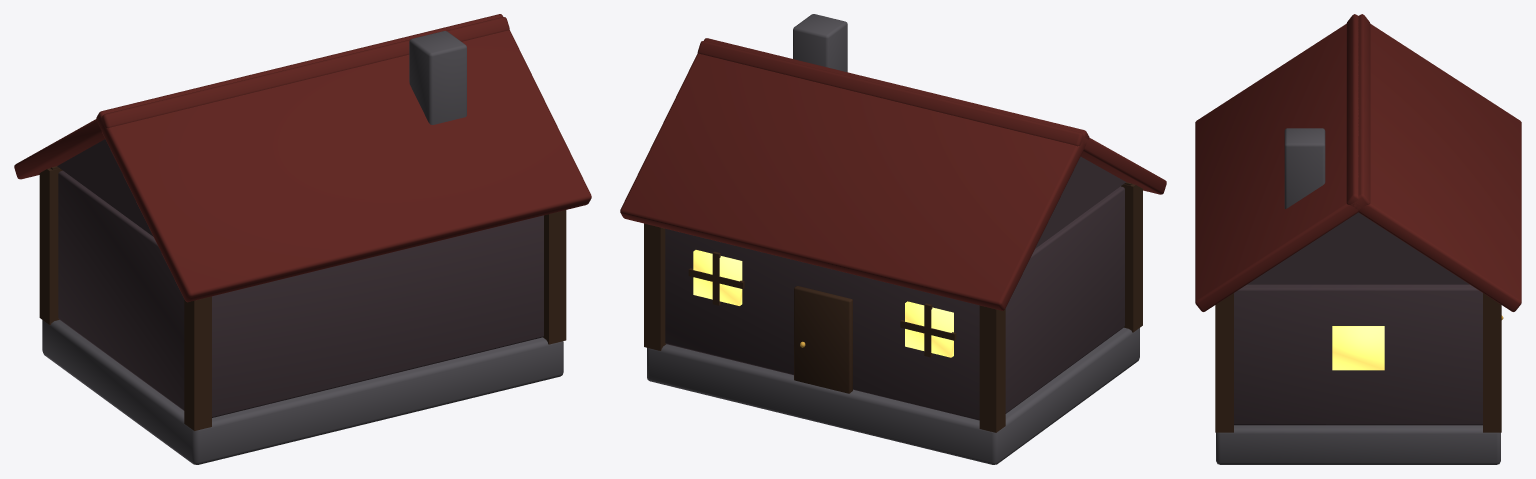
Rendered from house_dark.glb.
The picture shows the model from 3 angles, left to right: view 1: azimuth 30°, elevation 25°; view 2: azimuth 150°, elevation 25°; view 3: azimuth 270°, elevation 25°; orthographic projection. The views are drawn at different scales.
Parts seen in each view (by area): view 1: house_dark; view 2: house_dark; view 3: house_dark.
Part boxes in pixels (x1,y1,x2,y2): house_dark: (14,14,591,464); house_dark: (620,14,1166,464); house_dark: (1195,14,1521,464).
Bounding box in the file's own units: 7.4 × 5.6 × 5.61.
